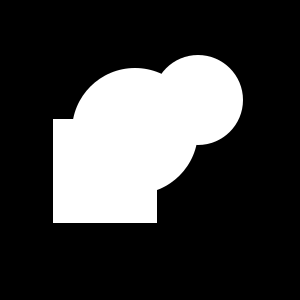circle: (53, 119, 157, 223)
rectangle: (72, 68, 198, 194), (153, 55, 243, 145)
